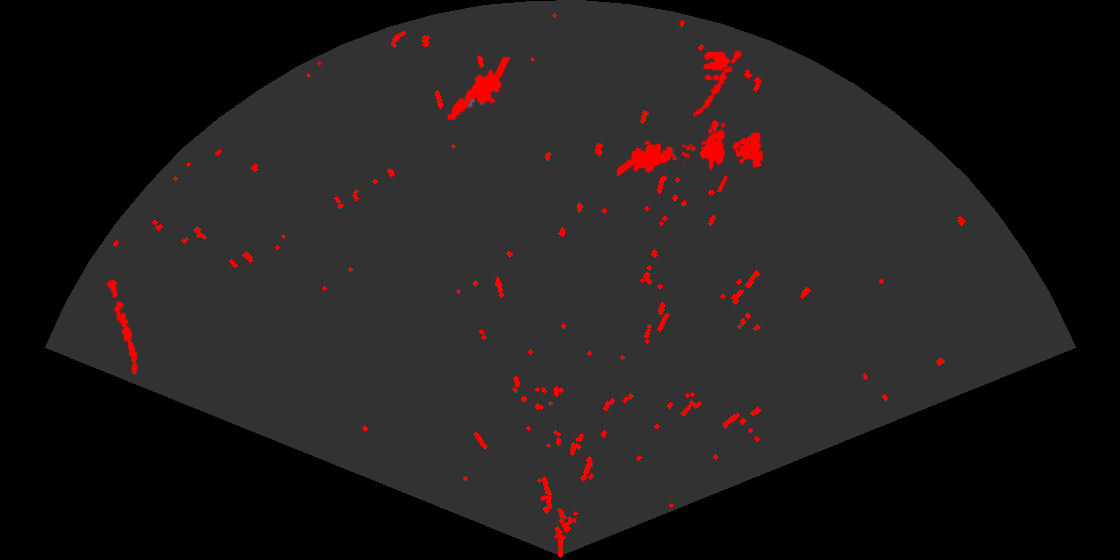ball: (701, 50, 732, 82)
cage: (682, 121, 765, 192)
chain: (694, 45, 746, 117), (105, 277, 140, 376)
frogman: (445, 57, 512, 122), (617, 139, 697, 178)
